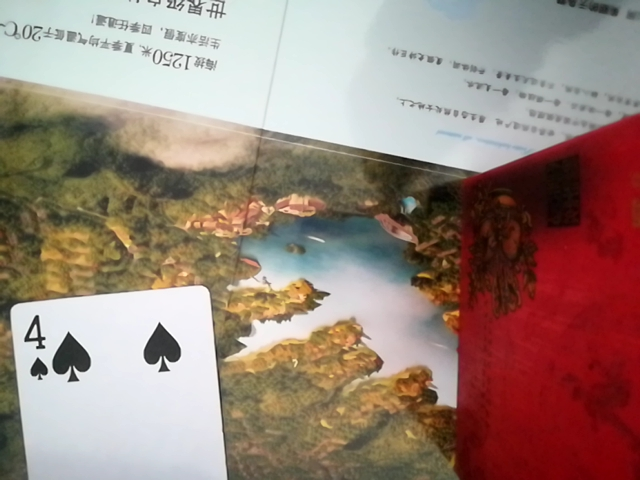ht 4: (3, 281, 234, 480)
